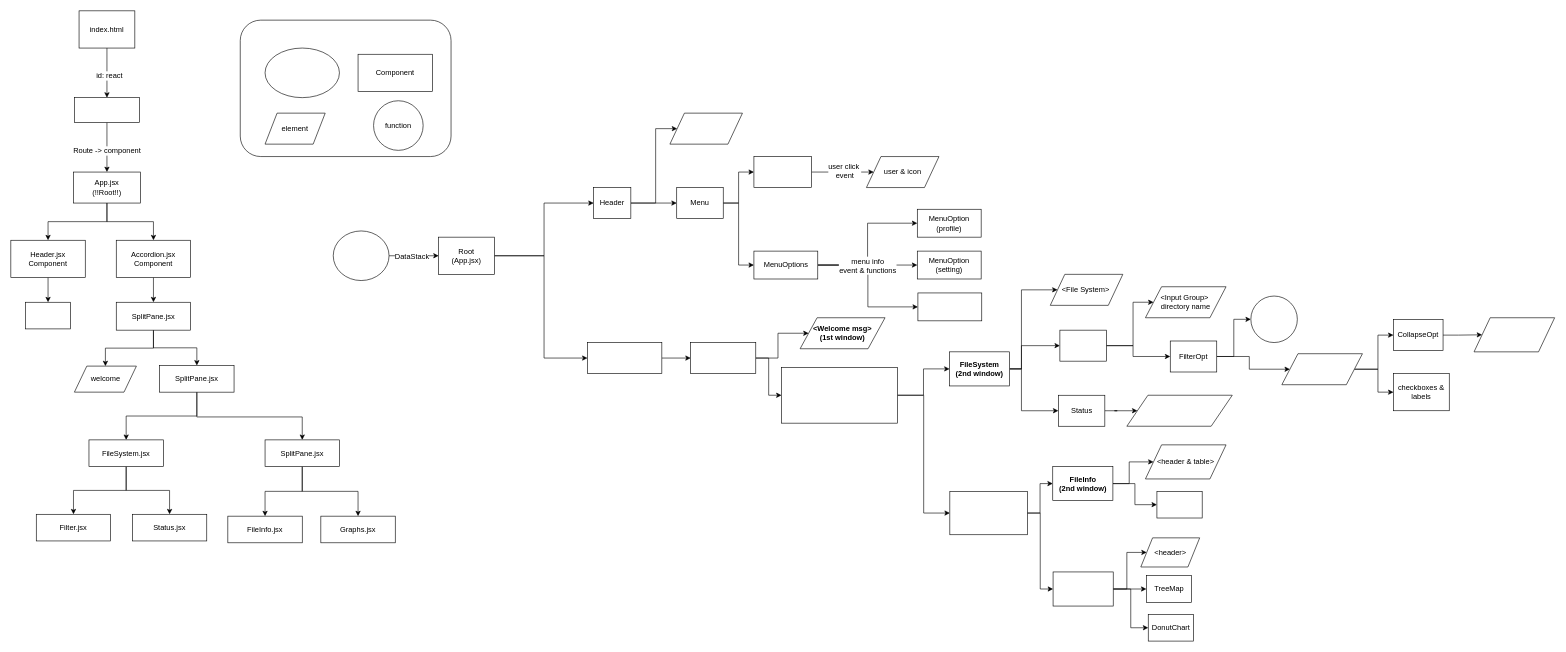
Image size: 1566x652. Some labels were removed from this diagram. The shapes that lost their labels are listed below. From the top down, each one's centre as x and y in pixels, then its label:
At [301,72]: "back-end".
At [107,109]: "index.jsx".
At [705,128]: "navbar-brand (brand)".
At [782,172]: "MenuTrigger".
At [361,255]: "Back-end indexer".
At [48,315]: "Menu.js".
At [949,306]: "MenuOption (sign out)".
At [1273,319]: "filter functions".
At [1082,345]: "Filter".
At [1514,334]: "min/max & Calendar".
At [624,358]: "Accordion (2 slideable panels)".
At [723,358]: "SplitPane TOP (whole window)".
At [1321,369]: "filter options".
At [839,395]: "SplitPane SECOND (FileSystem + FileInfo + Graphs)".
At [1179,410]: "ERROR: file not found".
At [988,513]: "SplitPane THIRD (FileInfo + Graphs)".
At [1179,504]: "FileData".
At [1082,588]: "Graphs (3rd window)".
